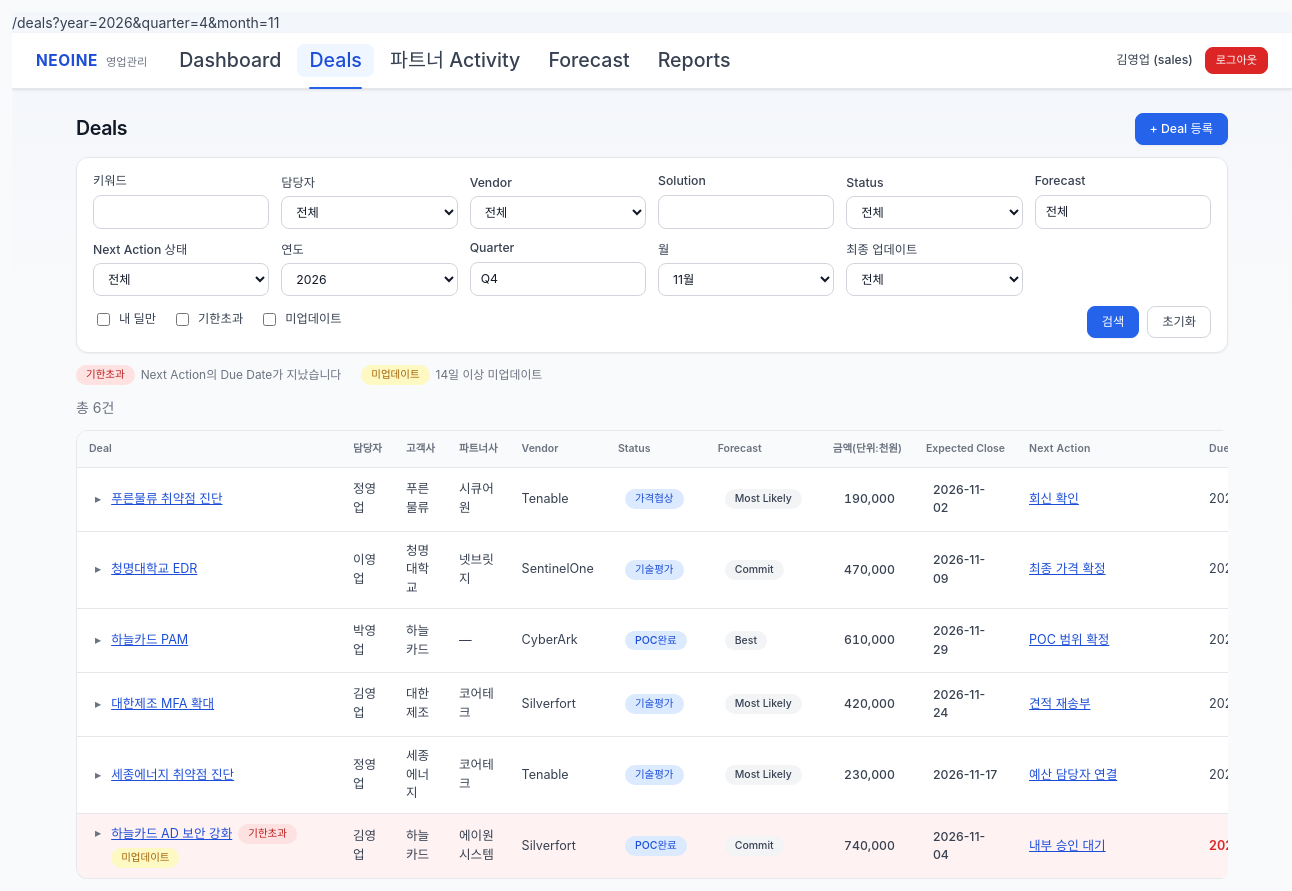
Scenario: 분기를 바꿀 때 월 (AC-13, Quarter 다중 선택 AC-25) › keeps the visible month when the quarters are cleared with the all button
Expected: the dropdown labelled "월" is shown, [658, 263, 834, 296]
Expected: the form named "Deal 필터" is shown, [76, 157, 1228, 353]
Click the button named "Quarter " at (558, 279), box [470, 262, 646, 296]
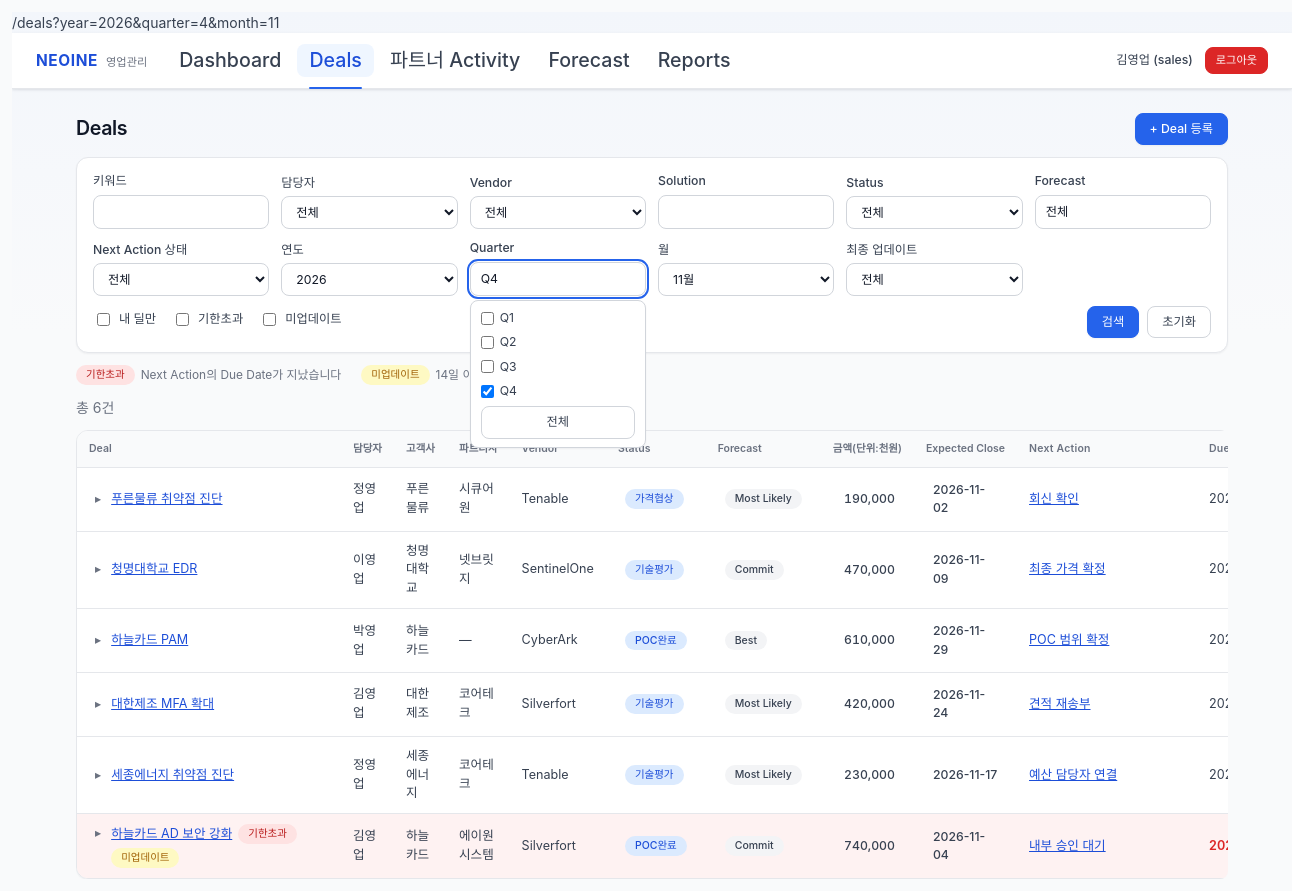
Click the button "전체" below "Q3" at (558, 423), box [481, 406, 635, 439]
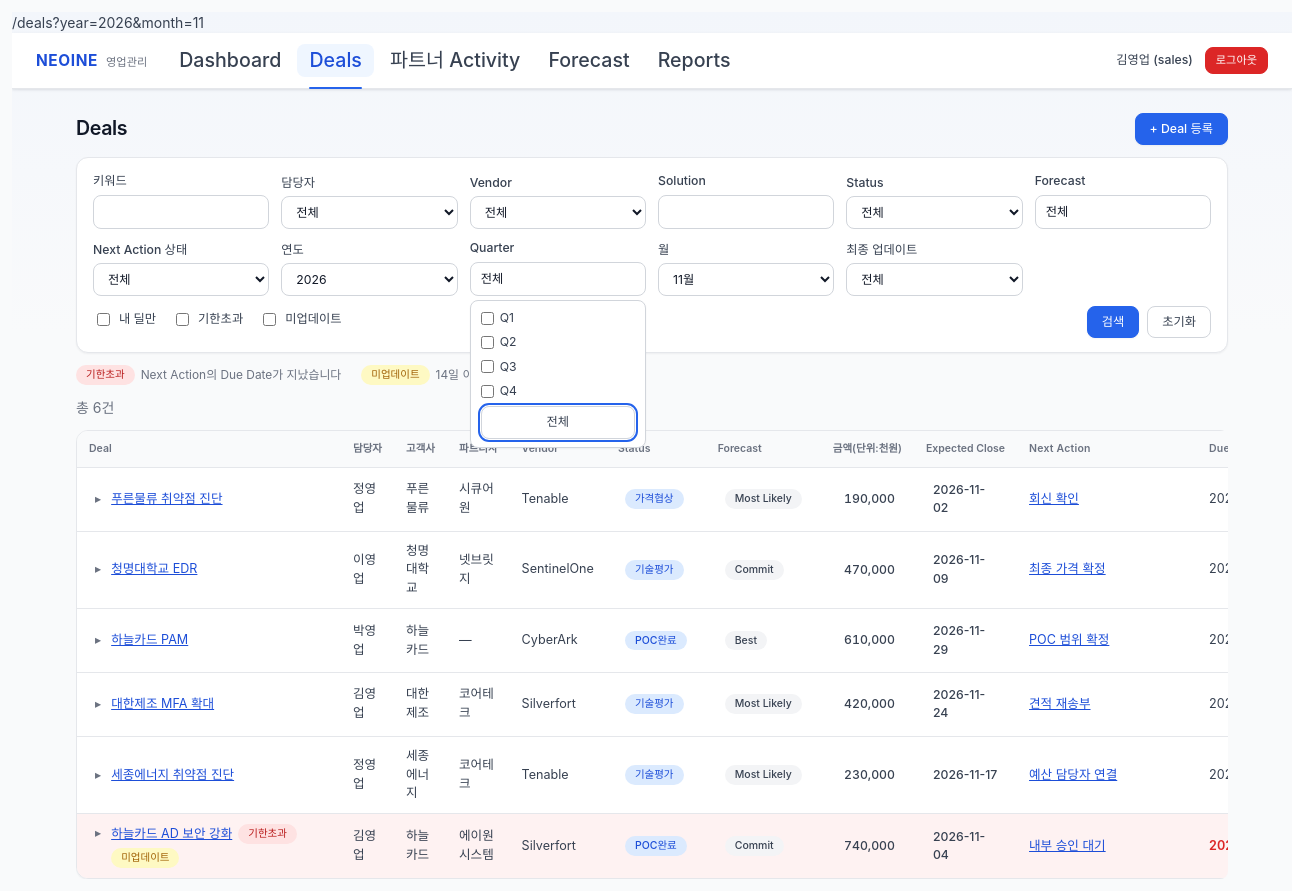
Expected: the dropdown labelled "월" shows "11월", [658, 263, 834, 296]
Expected: the text with test id "location" reads "/deals?year=2026&month=11", [12, 14, 204, 31]
